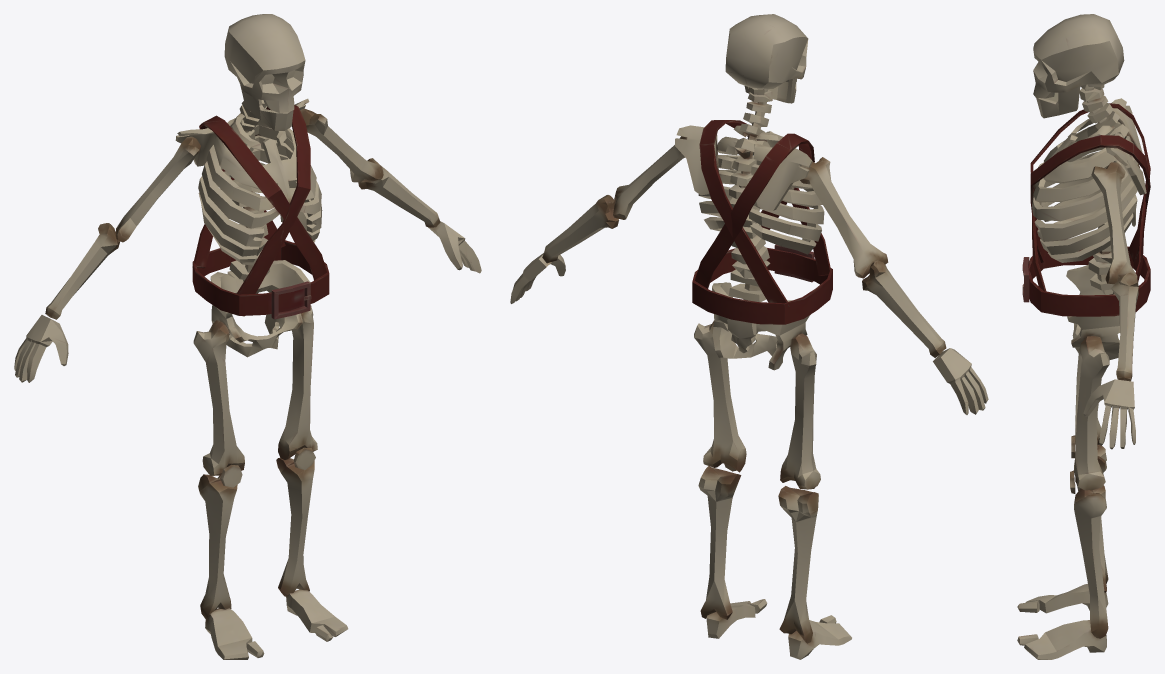
File: barrow_levy.glb
3 views of the same model, side by side, from view 1: azimuth 30°, elevation 25°; view 2: azimuth 150°, elevation 25°; view 3: azimuth 270°, elevation 25° (orthographic). The views are drawn at different scales.
Visible parts, largest first — view 1: tripo_node_3b290be3-59a9-423a-9598-d746d1330ecd; view 2: tripo_node_3b290be3-59a9-423a-9598-d746d1330ecd; view 3: tripo_node_3b290be3-59a9-423a-9598-d746d1330ecd.
Boxes of the visible parts, x1=… form: tripo_node_3b290be3-59a9-423a-9598-d746d1330ecd: x1=14, y1=14, x2=481, y2=659; tripo_node_3b290be3-59a9-423a-9598-d746d1330ecd: x1=510, y1=14, x2=988, y2=659; tripo_node_3b290be3-59a9-423a-9598-d746d1330ecd: x1=1017, y1=14, x2=1150, y2=659.
Bounding box in the file's own units: 1.41 × 1.8 × 0.3558.
Materials: 1 (1 with a texture image).
